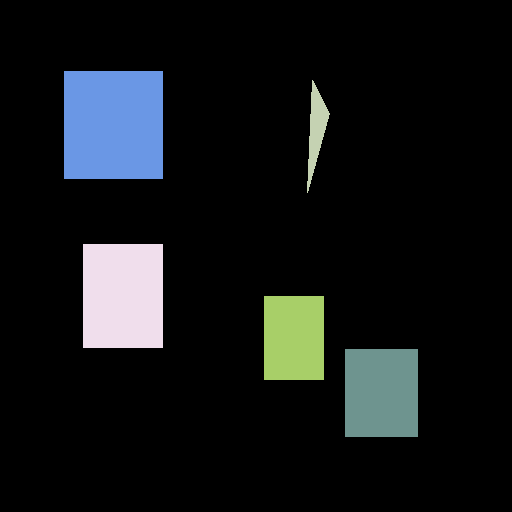rectangle: (83, 244, 162, 347), (345, 349, 417, 436), (264, 296, 323, 379)
square: (64, 71, 162, 178)
triangle: (307, 80, 329, 192)
